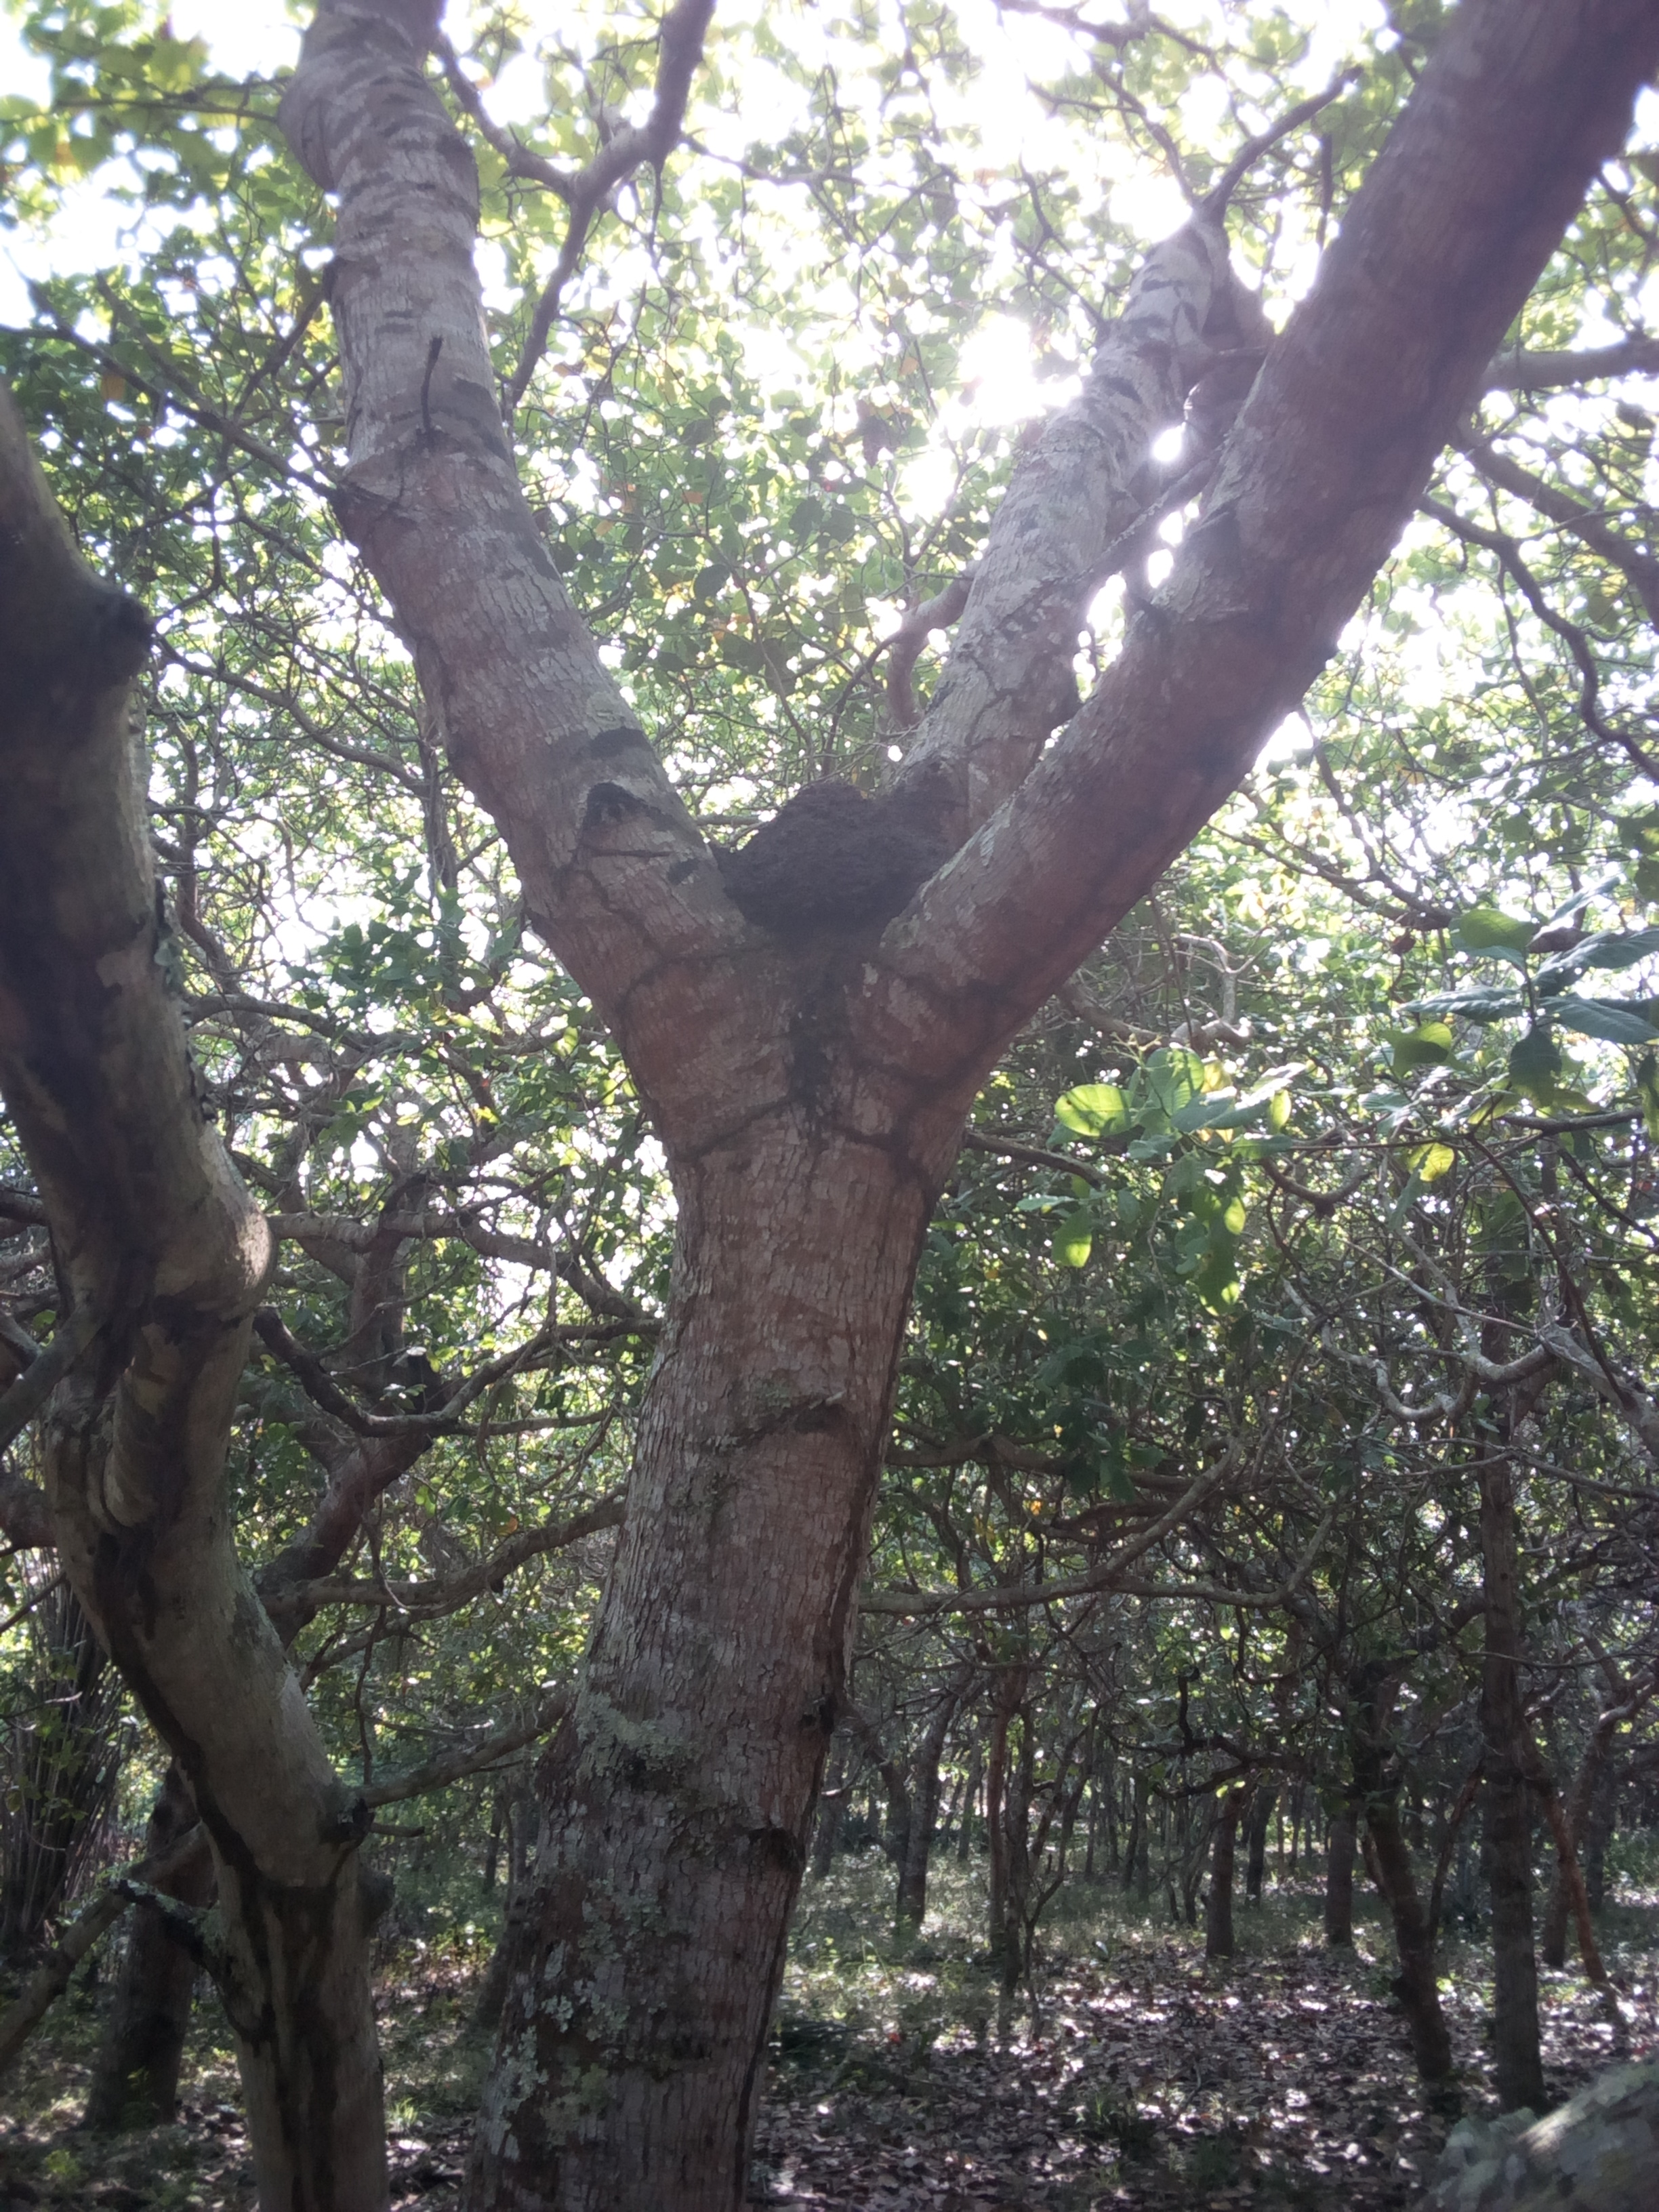Virose: (667, 737, 1042, 977)
